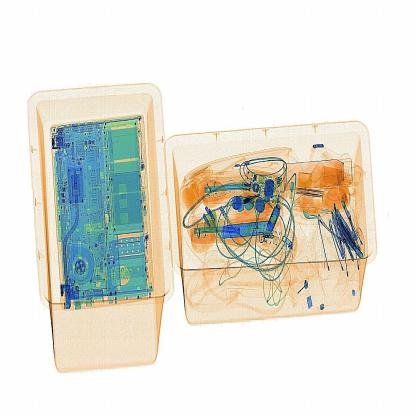pliers: (214, 219, 285, 250)
